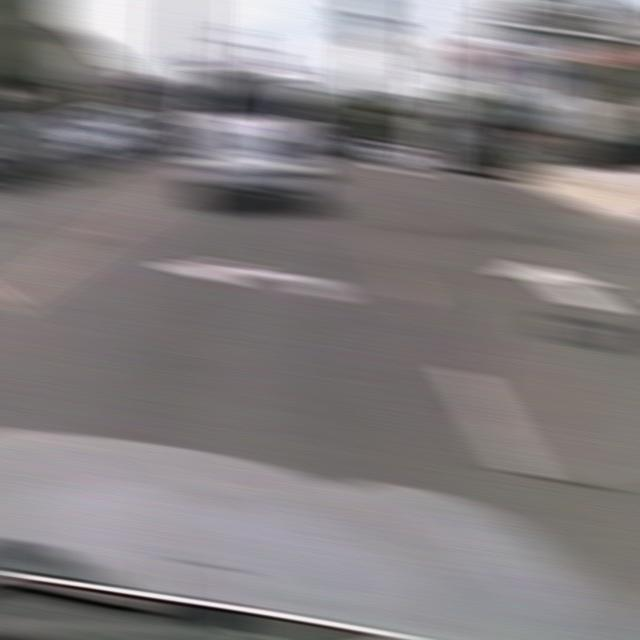stop: (461, 39, 504, 72)
